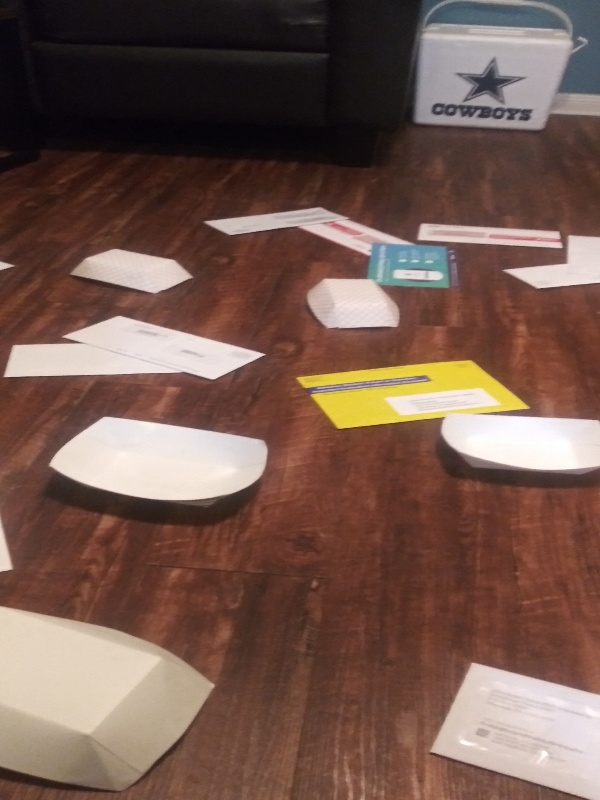plate: (1, 598, 219, 794), (45, 412, 272, 517), (437, 407, 600, 480), (63, 245, 198, 299), (300, 276, 408, 333)
